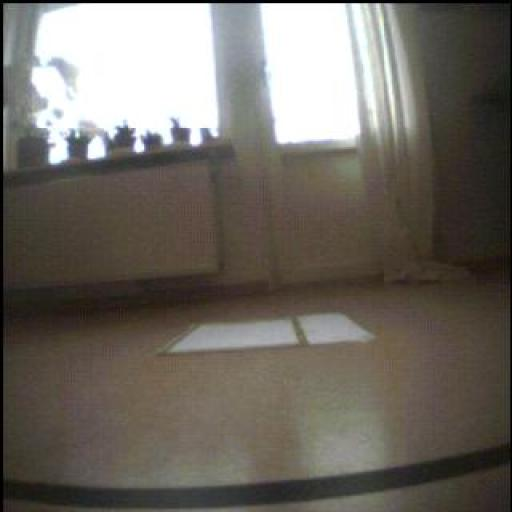Pad: (155, 301, 383, 358)
